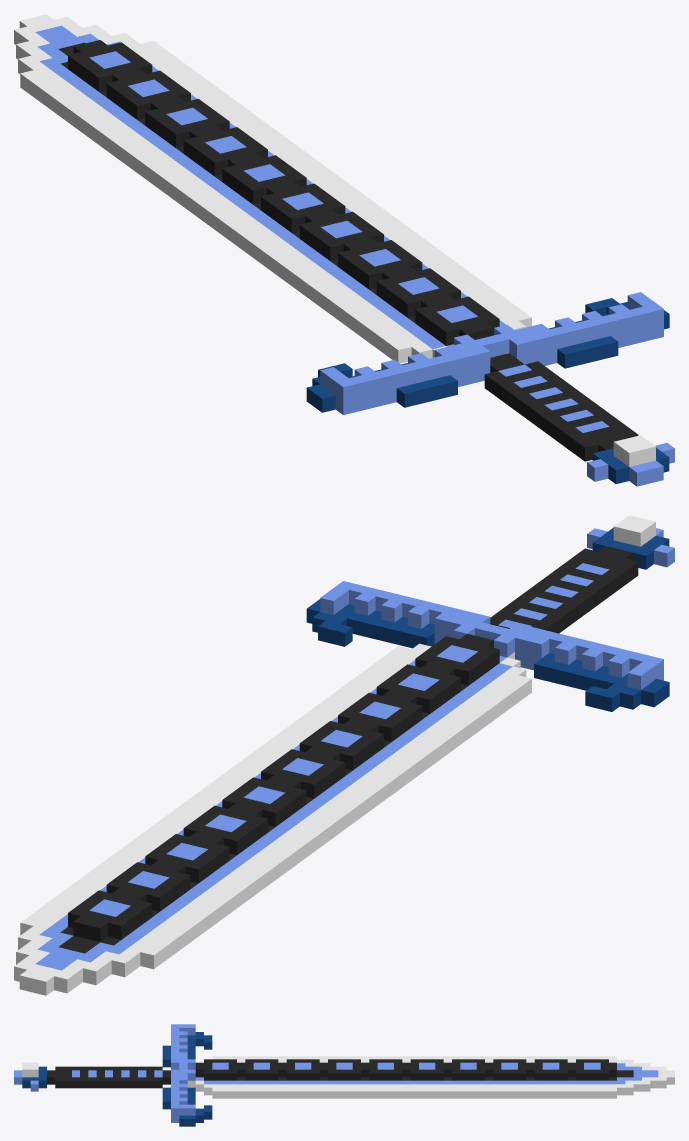
Rendered from Sword_SkyBlue.obj.
The picture shows the model from 3 angles, top to bottom: view 1: azimuth 30°, elevation 25°; view 2: azimuth 150°, elevation 25°; view 3: azimuth 270°, elevation 25°; orthographic projection. The views are drawn at different scales.
Size of the model in its own units: 2.6 by 0.2 by 8.
1 material, 1 textured.
